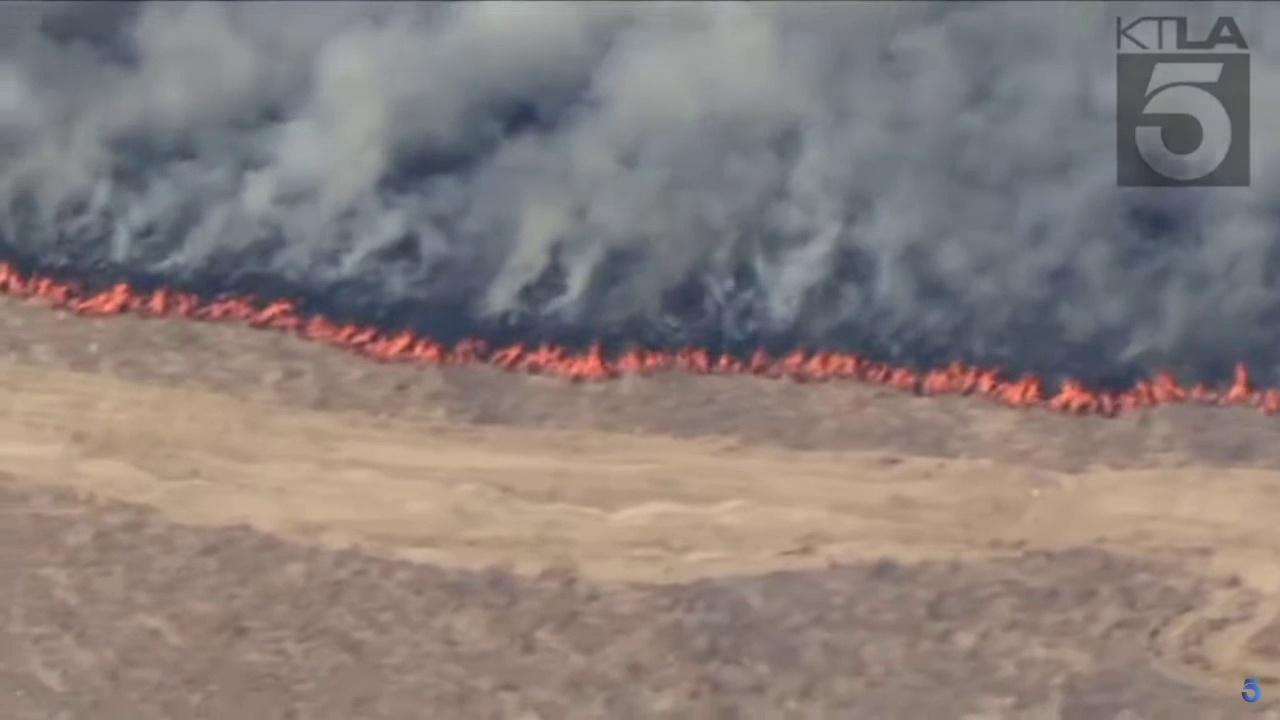fire: (0, 259, 1280, 422)
smoke: (0, 0, 1280, 386)
